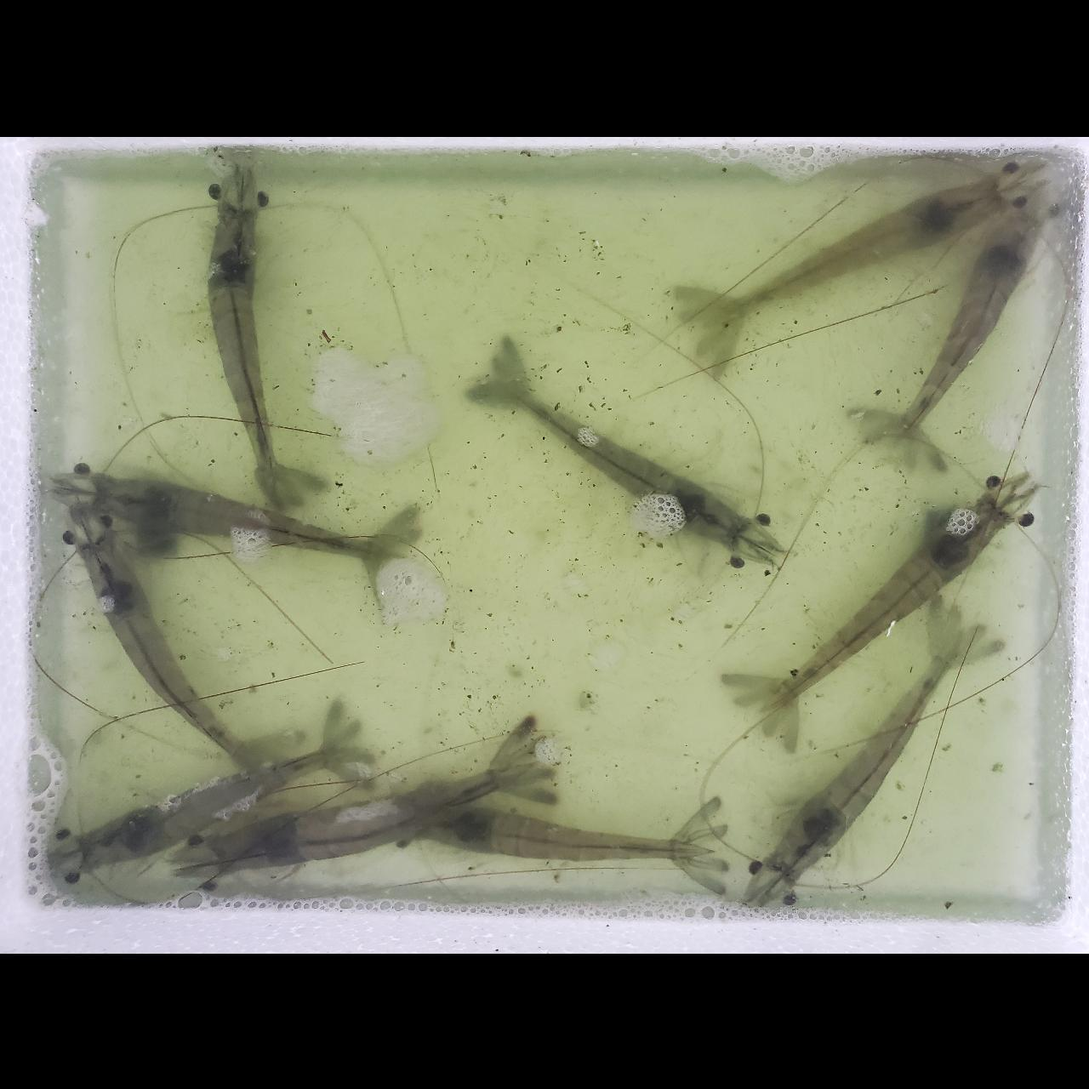box: (135, 504, 181, 555)
top_shrimp: (764, 504, 1002, 713), (776, 635, 966, 871), (702, 182, 1001, 327), (493, 376, 744, 543), (194, 764, 538, 871), (893, 204, 1040, 448), (88, 534, 243, 754), (83, 744, 344, 864), (97, 480, 407, 557), (208, 208, 279, 500), (400, 798, 698, 859)
